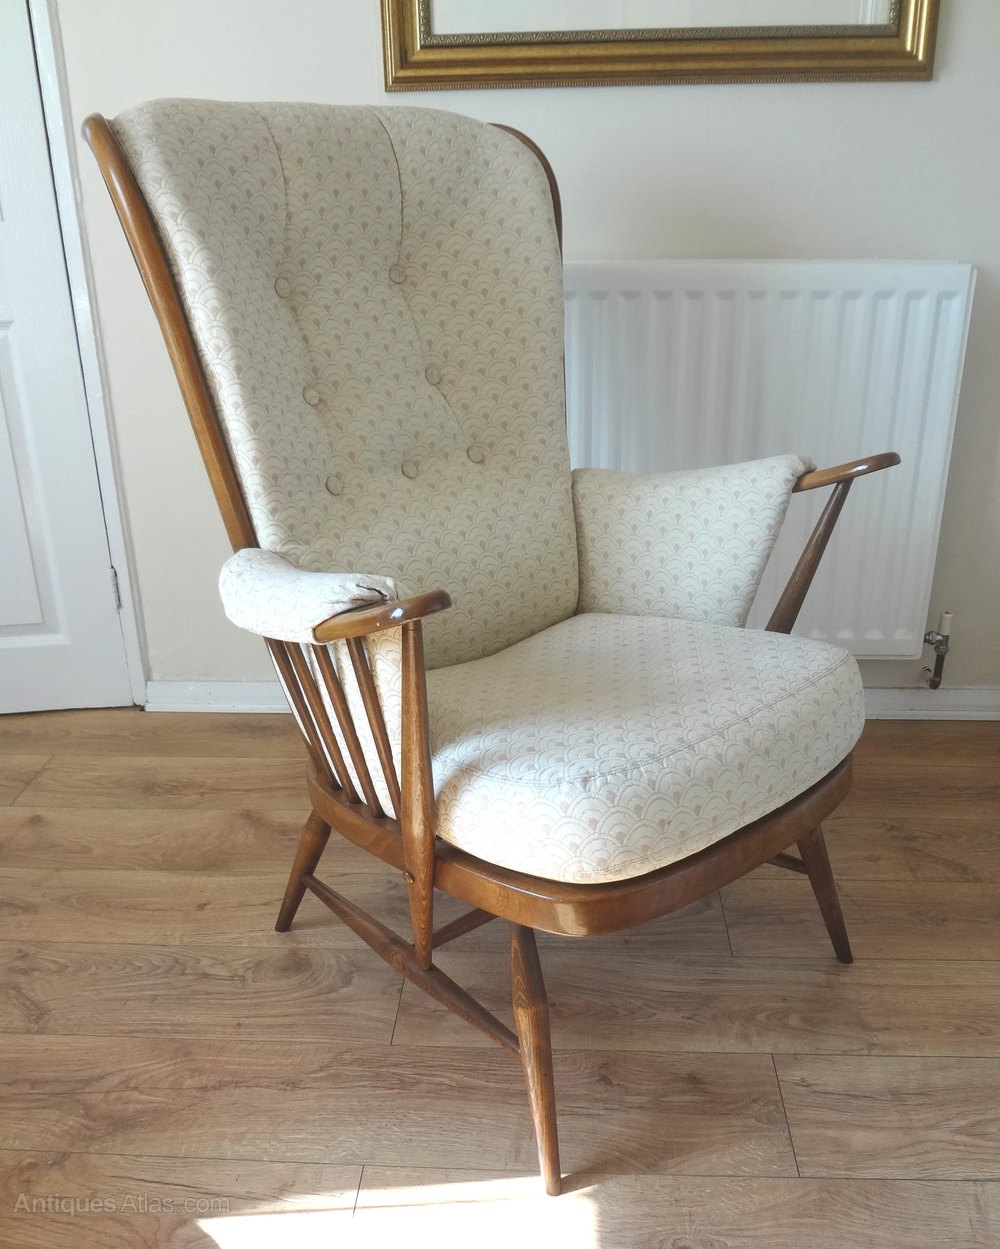chairs: (82, 93, 904, 1202)
